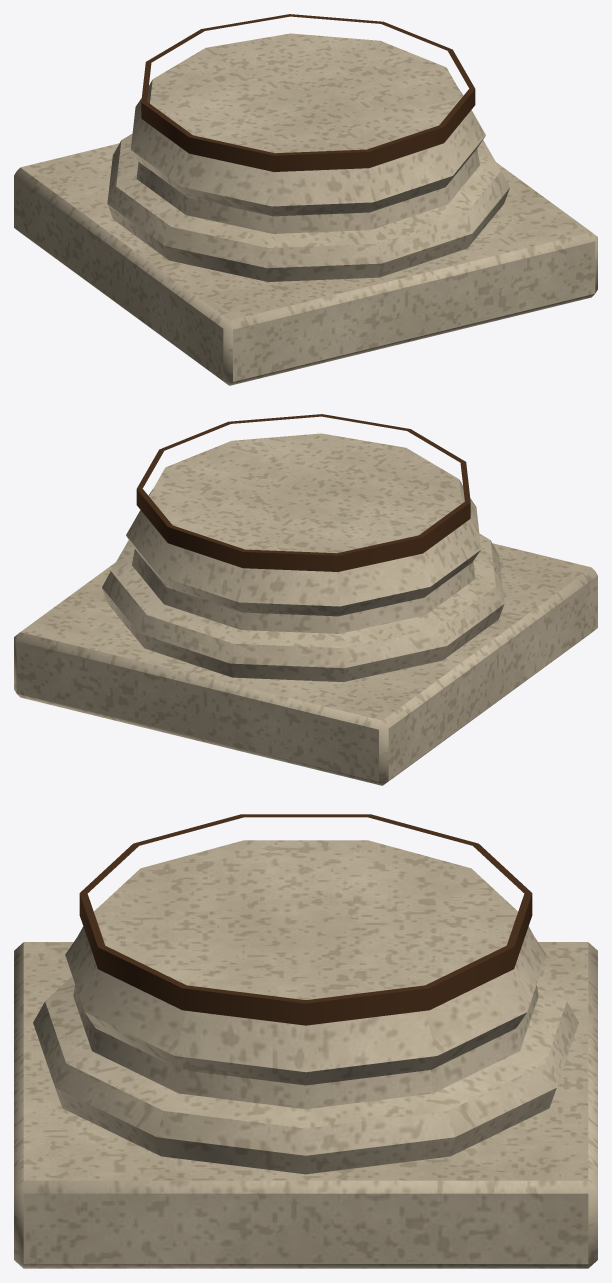
Rendered from column-base-stone.lod1.glb.
The picture shows the model from 3 angles, top to bottom: view 1: azimuth 30°, elevation 25°; view 2: azimuth 150°, elevation 25°; view 3: azimuth 270°, elevation 25°; orthographic projection. The views are drawn at different scales.
Visible parts, largest first — view 1: column_base_stone_Stone • warm limestone, column_base_stone_Trim • places palette; view 2: column_base_stone_Stone • warm limestone, column_base_stone_Trim • places palette; view 3: column_base_stone_Stone • warm limestone, column_base_stone_Trim • places palette.
Boxes of the visible parts, box(x1,y1,x2,y2) form: column_base_stone_Stone • warm limestone: box(14, 33, 597, 385); column_base_stone_Trim • places palette: box(141, 14, 475, 171); column_base_stone_Stone • warm limestone: box(14, 433, 597, 785); column_base_stone_Trim • places palette: box(136, 414, 470, 571); column_base_stone_Stone • warm limestone: box(14, 840, 597, 1268); column_base_stone_Trim • places palette: box(79, 814, 532, 1025).
Bounding box in the file's own units: 0.72 × 0.33 × 0.72.
2 materials, 2 textured.
